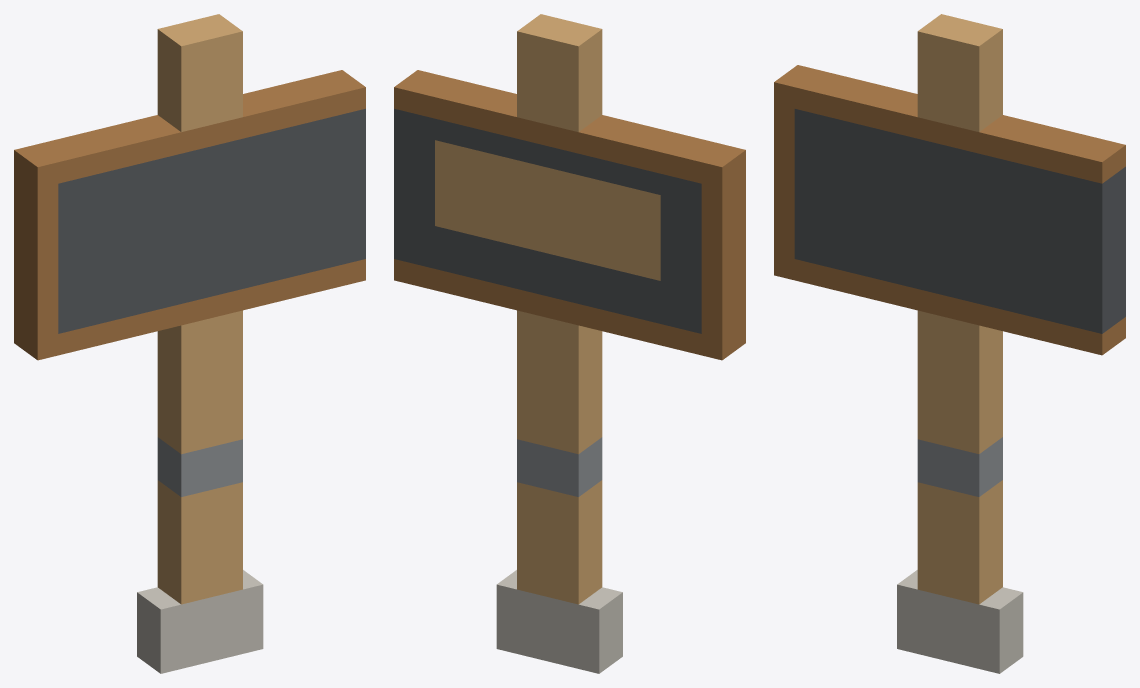
Rendered from hearthvale_furniture_signpost.obj.
The picture shows the model from 3 angles, left to right: view 1: azimuth 30°, elevation 25°; view 2: azimuth 150°, elevation 25°; view 3: azimuth 330°, elevation 25°; orthographic projection.
Visible parts, largest first — view 1: palette_4, palette_3, palette_2, palette_8, palette_5; view 2: palette_3, palette_2, palette_4, palette_8, palette_5; view 3: palette_4, palette_3, palette_2, palette_8, palette_5.
Boxes of the visible parts, x1,y1,x2,y2 form: palette_4: (58,108,365,333); palette_3: (157,14,242,604); palette_2: (14,70,365,360); palette_8: (137,570,263,673); palette_5: (157,437,242,496); palette_3: (435,14,660,604); palette_2: (394,70,745,360); palette_4: (394,108,701,333); palette_8: (496,570,622,673); palette_5: (517,437,602,496); palette_4: (794,109,1125,333); palette_3: (917,14,1002,604); palette_2: (774,65,1125,355); palette_8: (897,570,1023,673); palette_5: (917,437,1002,496).
Size of the model in its own units: 1 by 1.81 by 0.125.
